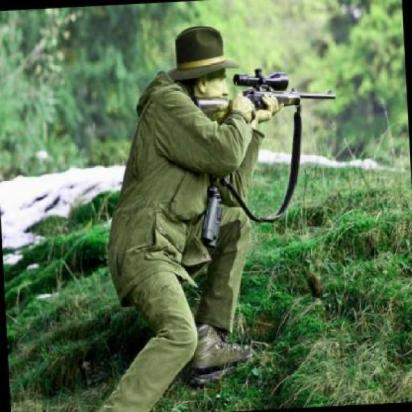Gun: (187, 60, 341, 136)
